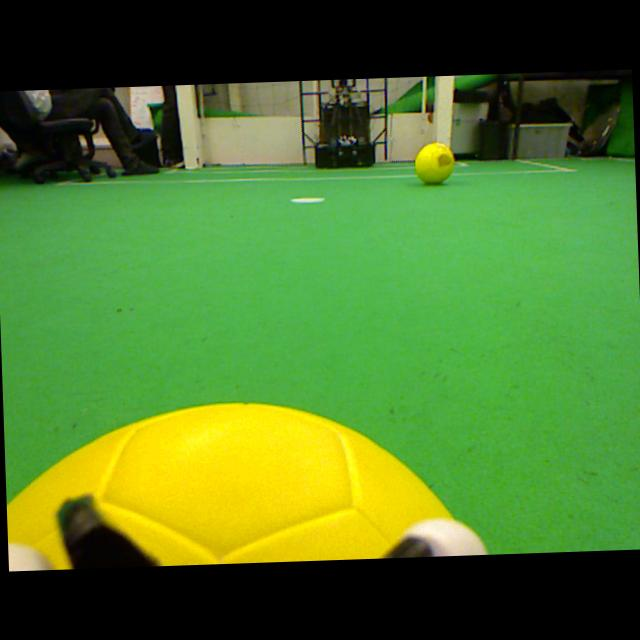ball: (6, 403, 455, 569), (414, 142, 454, 183)
goal: (175, 84, 199, 169), (436, 75, 455, 149)
robot: (314, 79, 373, 168)
